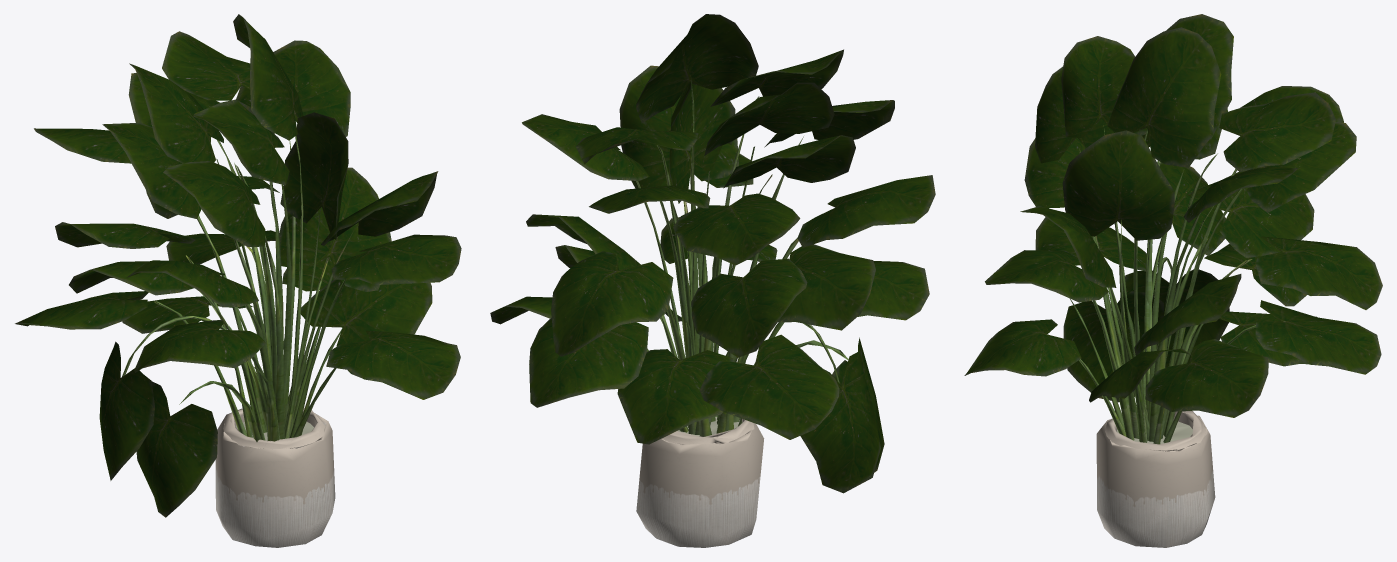
Rendered from SM_InteriorPlant_01b_LOD3.fbx.
3 renders of one model, left to right at view 1: azimuth 30°, elevation 25°; view 2: azimuth 150°, elevation 25°; view 3: azimuth 270°, elevation 25°, orthographic. The views are drawn at different scales.
Parts seen in each view (by area): view 1: SM_InteriorPlant_01b_LOD3; view 2: SM_InteriorPlant_01b_LOD3; view 3: SM_InteriorPlant_01b_LOD3.
Part boxes in pixels (x1,y1,x2,y2): SM_InteriorPlant_01b_LOD3: (15, 14, 461, 547); SM_InteriorPlant_01b_LOD3: (490, 14, 935, 547); SM_InteriorPlant_01b_LOD3: (964, 14, 1382, 547).
Size of the model in its own units: 75.78 by 107 by 82.62.
